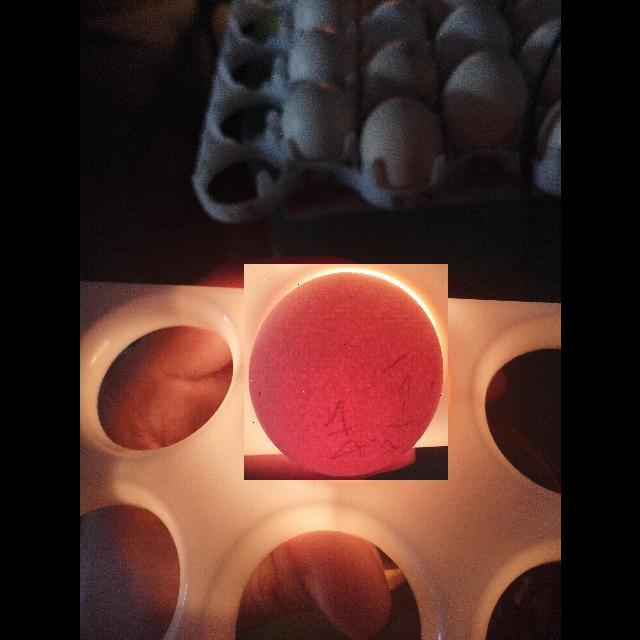Infertile: (244, 264, 448, 480)
